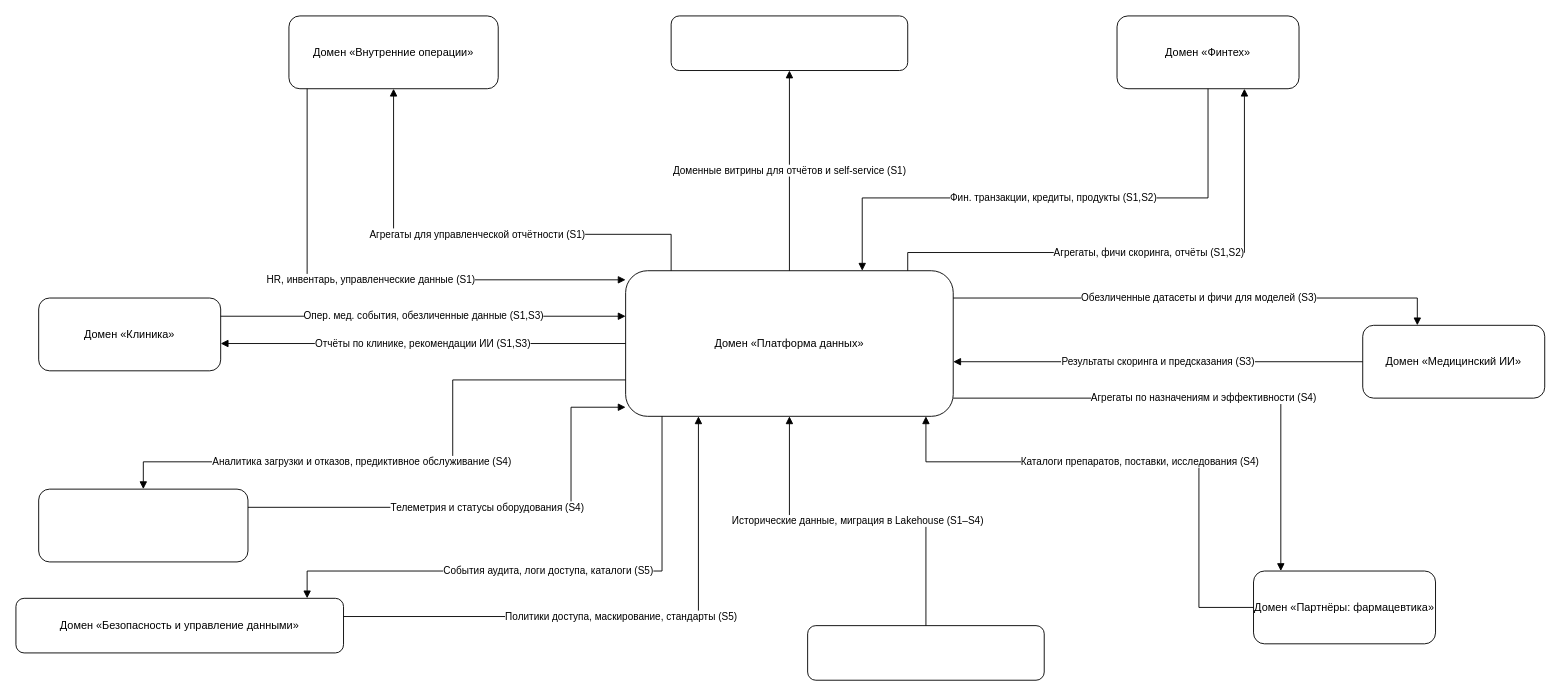
The diagram is 1561 pixels wide and 696 high, and some of its shapes have lost their labels. The shapes that lost their labels are listed below. From the top down, each one's centre as x and y in pixels, then its label:
At point (789, 43): "BI / Портал самообслуживания".
At point (143, 525): "Домен «Партнёры: мед. оборудование»".
At point (925, 652): "Legacy DWH (SQL Server 2008)".
